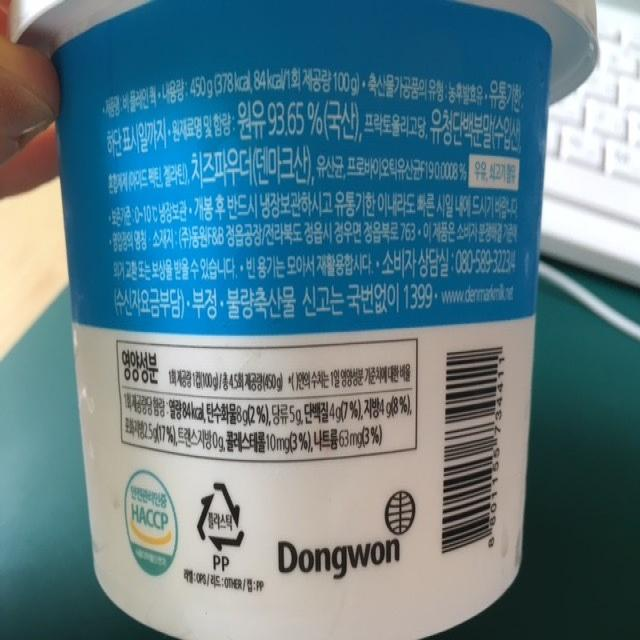Plastic: (193, 478, 247, 554)
